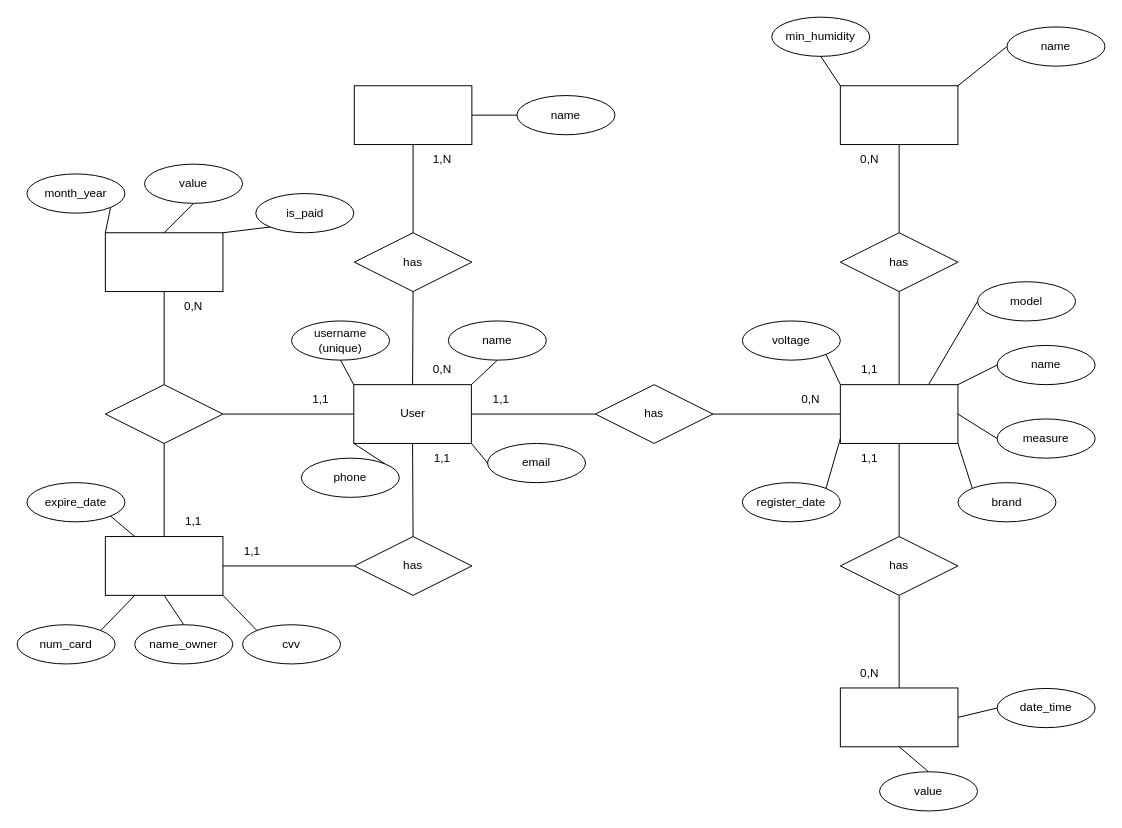
The diagram is 1122 pixels wide and 828 high, and some of its shapes have lost their labels. The shapes that lost their labels are listed below. From the top down, each one's centre as x and y in pixels, then its label:
At (x=412, y=115): "Role".
At (x=898, y=115): "Plant".
At (x=163, y=262): "Payment".
At (x=163, y=413): "pay".
At (x=898, y=413): "Sensor".
At (x=163, y=565): "Credit Card".
At (x=898, y=717): "Record".
